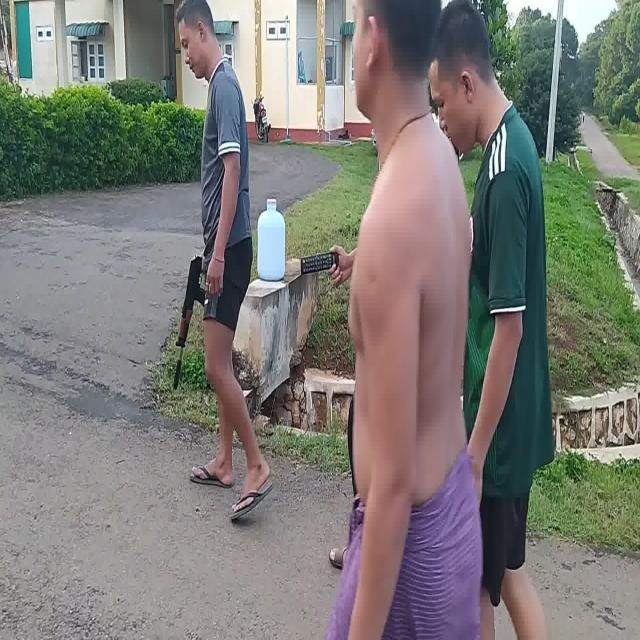gun: (173, 256, 205, 389)
